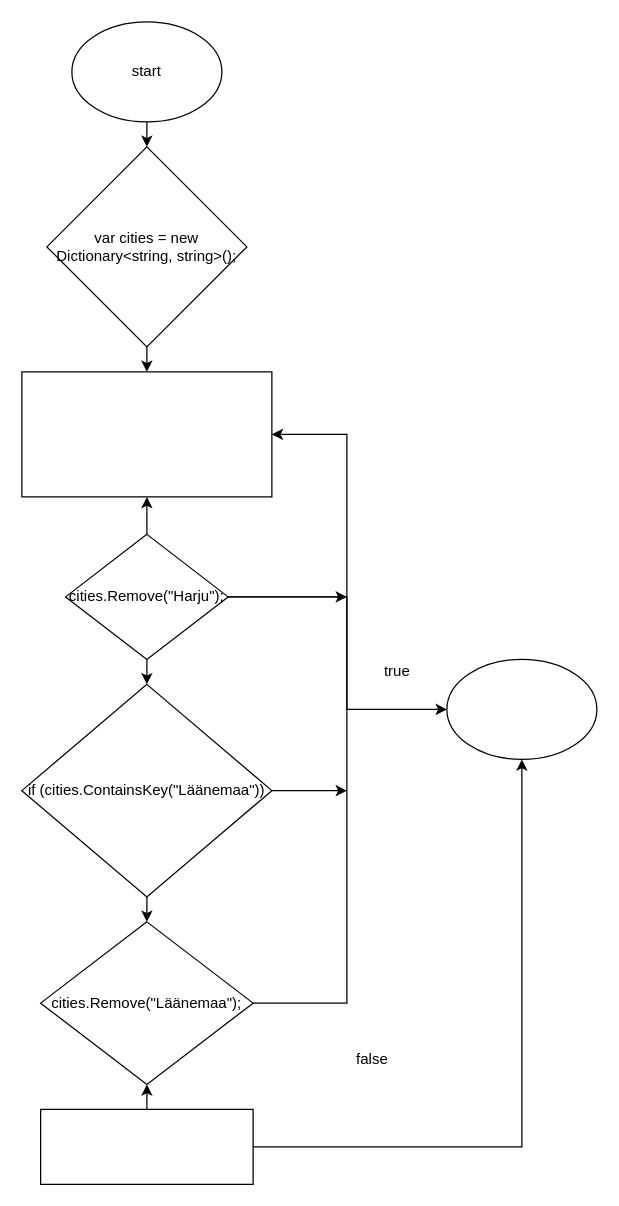
The diagram is 619 pixels wide and 1206 high, and some of its shapes have lost their labels. Each missing label, with the box of its shape:
Console.WriteLine("total elements: {0}", cities.Count);: (39, 1108, 253, 1184)
end: (446, 658, 597, 759)
{"Harju", "Tallinn"}, {"Läänemaa", "Haapsalu"}, {"Raplamaa", "Rapla"},: (21, 371, 272, 497)
